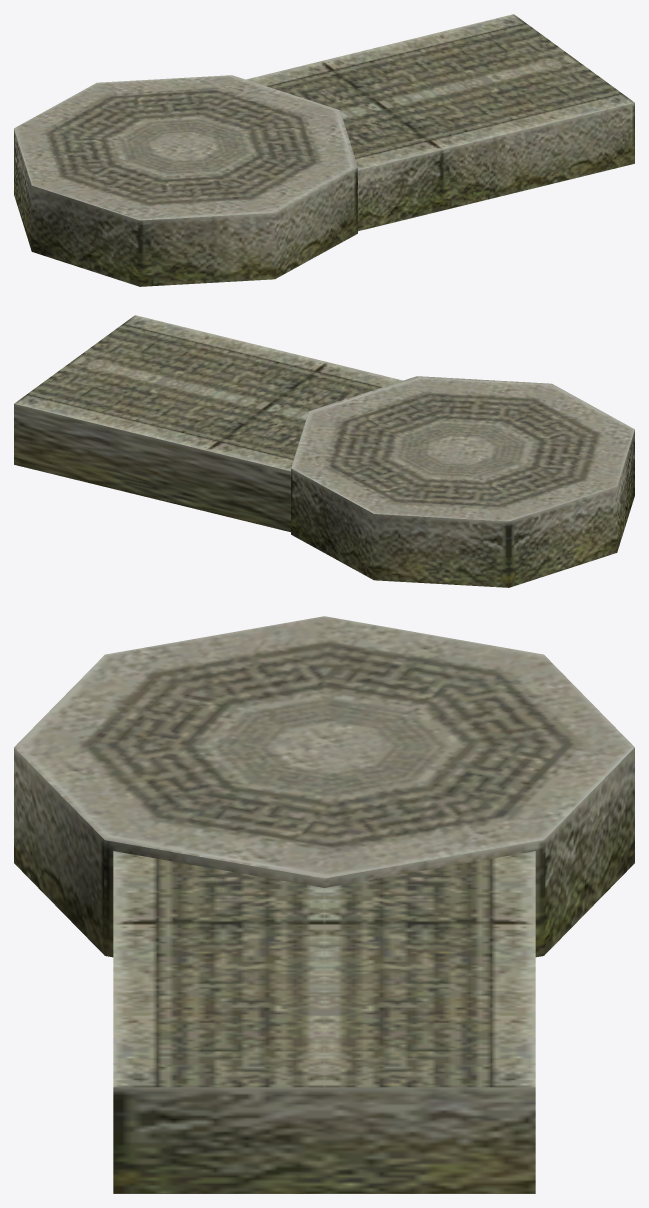
File: secret_boundary_ston_01.glb
3 renders of one model, top to bottom at view 1: azimuth 30°, elevation 25°; view 2: azimuth 150°, elevation 25°; view 3: azimuth 270°, elevation 25°, orthographic. The views are drawn at different scales.
Parts seen in each view (by area): view 1: secret_boundary ston_01; view 2: secret_boundary ston_01; view 3: secret_boundary ston_01.
Boxes of the visible parts, x1,y1,x2,y2 form: secret_boundary ston_01: [14, 14, 634, 286]; secret_boundary ston_01: [14, 315, 634, 587]; secret_boundary ston_01: [14, 616, 634, 1193].
Bounding box in the file's own units: 2.79 × 0.3266 × 1.59.
Materials: 1 (1 with a texture image).
